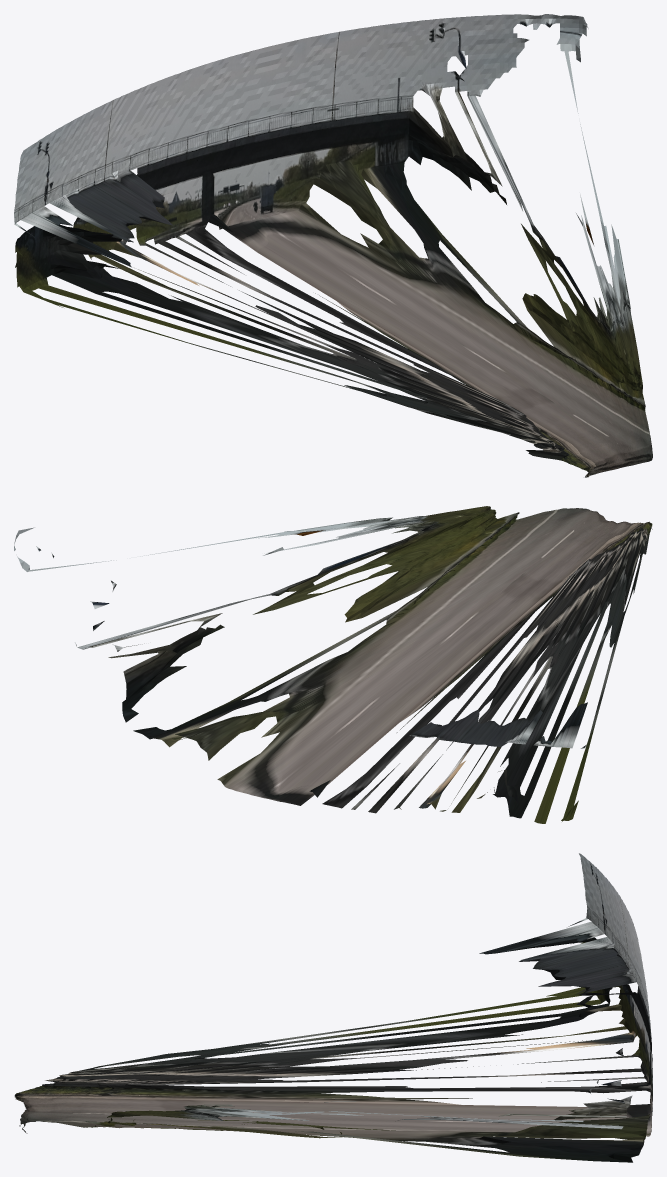
3 renders of one model, top to bottom at view 1: azimuth 30°, elevation 25°; view 2: azimuth 150°, elevation 25°; view 3: azimuth 270°, elevation 25°, orthographic. The views are drawn at different scales.
Visible parts, largest first — view 1: defaultobject; view 2: defaultobject; view 3: defaultobject.
Boxes of the visible parts, x1,y1,x2,y2 form: defaultobject: (14,14,652,477); defaultobject: (14,506,652,823); defaultobject: (14,853,652,1162).
Size of the model in its own units: 40.75 by 12.36 by 44.63.
Materials: 1 (1 with a texture image).
